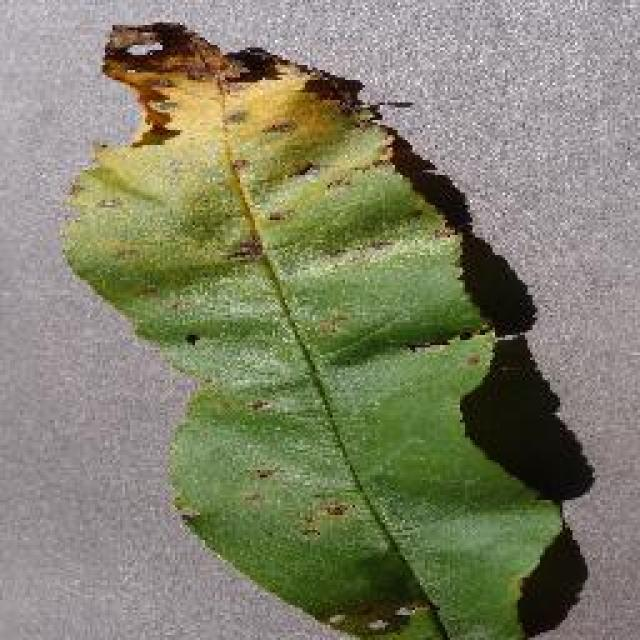Peach_Bacterial_Spot: (95, 37, 423, 238)
